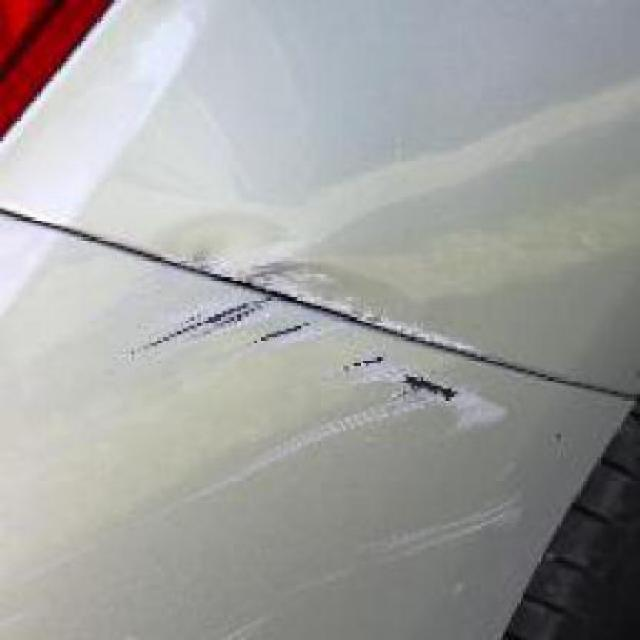dent-or-scratch: (3, 224, 526, 638)
